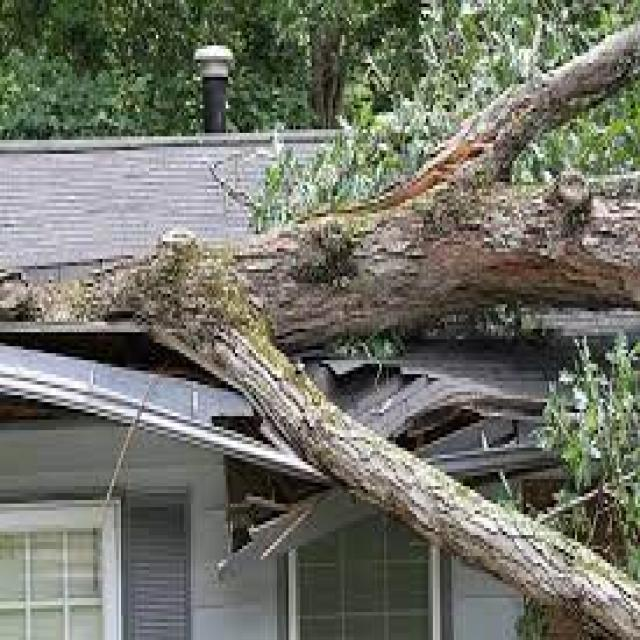Hurricane: (7, 49, 640, 570)
